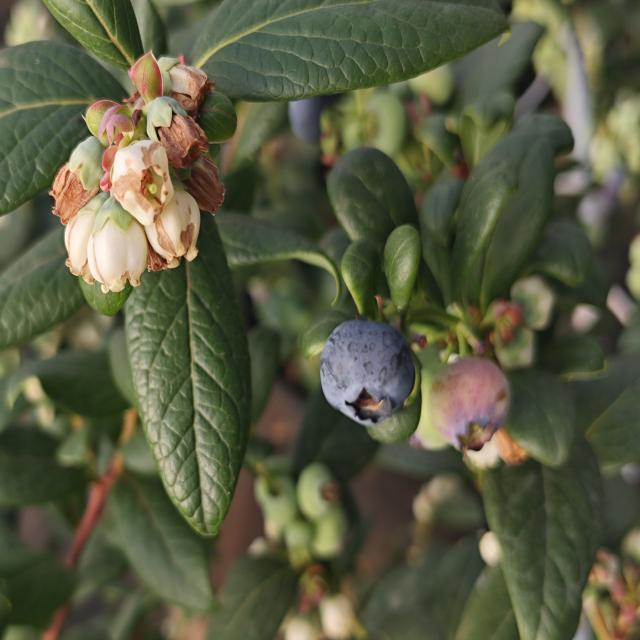ripe: (321, 308, 424, 422), (283, 83, 357, 152)
